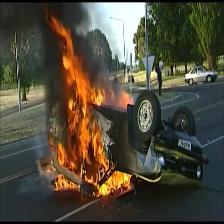fire: (36, 8, 144, 200)
smoke: (0, 5, 65, 108)
